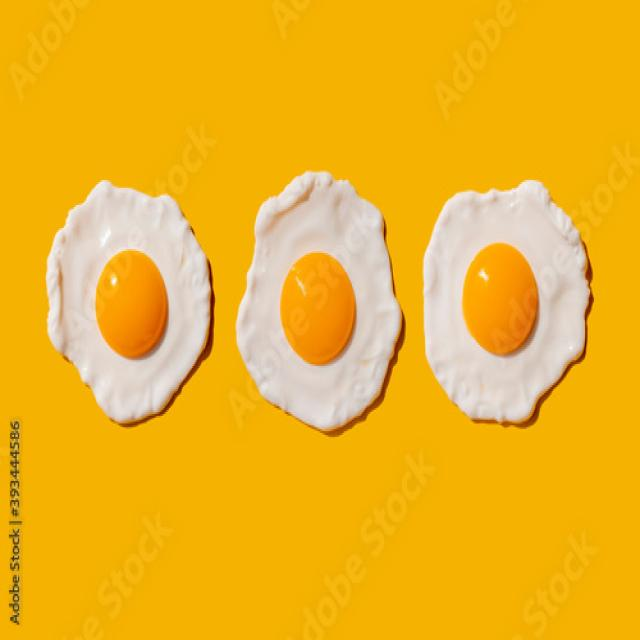Egg: (236, 172, 401, 429), (424, 182, 590, 422), (46, 182, 211, 422)
